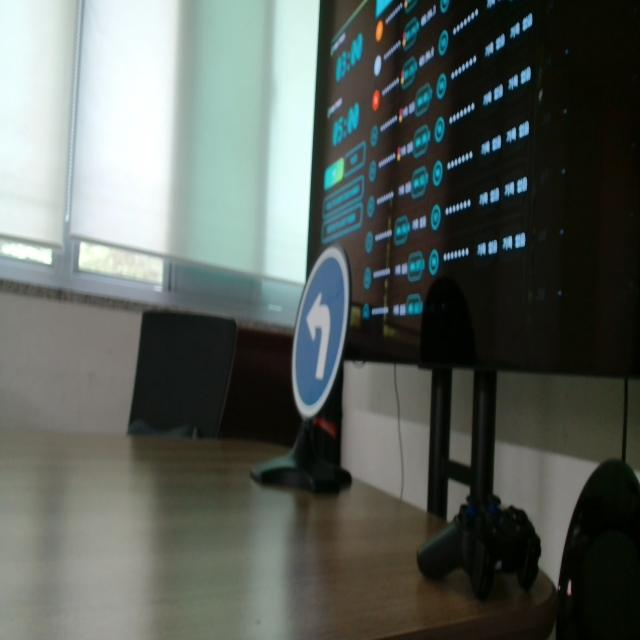left_direction: (288, 247, 350, 418)
